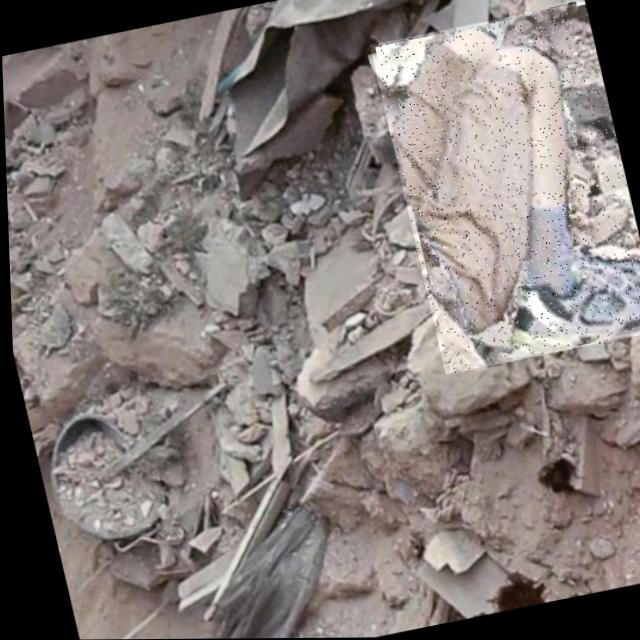Person in Rubble: (368, 1, 640, 375)
